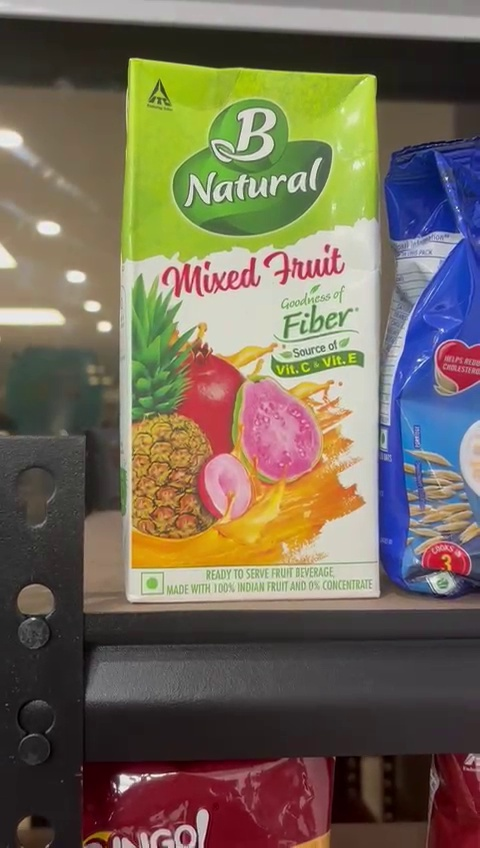Mixed Fruit: (126, 55, 381, 603)
